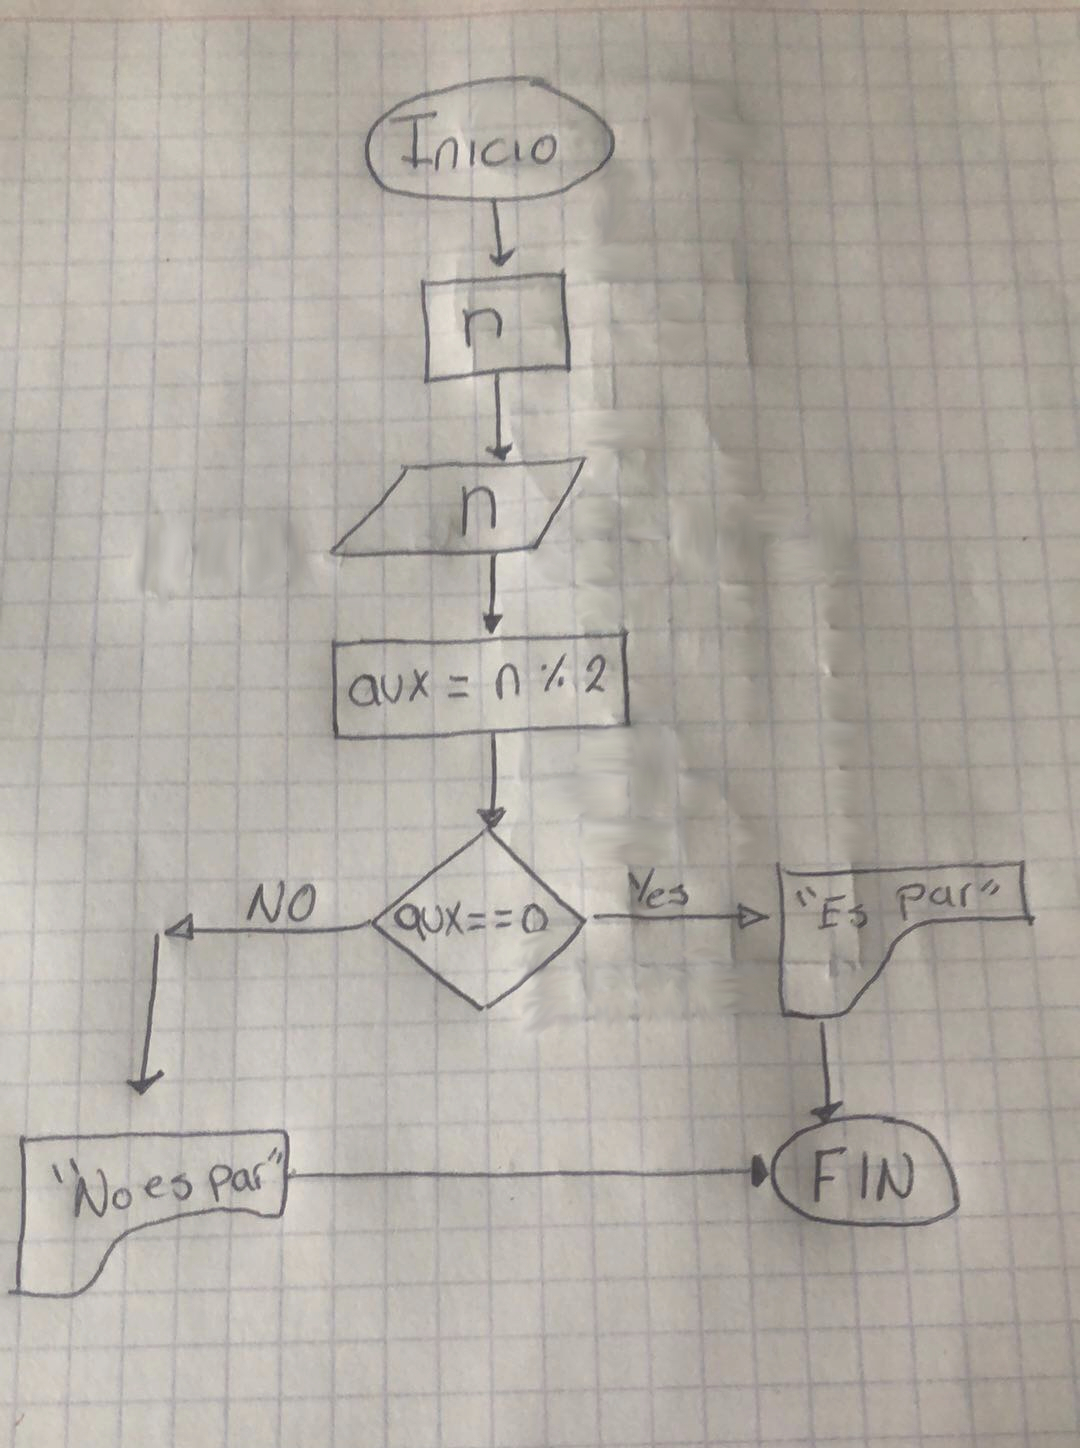arrow_line_down: (123, 926, 167, 1104), (804, 1013, 842, 1126), (472, 733, 508, 833), (476, 369, 515, 462), (474, 551, 511, 638), (478, 198, 513, 274)
arrow_line_left: (163, 903, 372, 942)
arrow_line_right: (282, 1149, 769, 1189), (581, 894, 776, 938)
decision: (369, 829, 585, 1021)
print: (10, 1119, 297, 1309), (767, 856, 1035, 1021)
process: (320, 633, 640, 736), (413, 269, 577, 379)
scan: (319, 456, 597, 560)
start_end: (360, 69, 621, 210), (769, 1113, 967, 1238)
